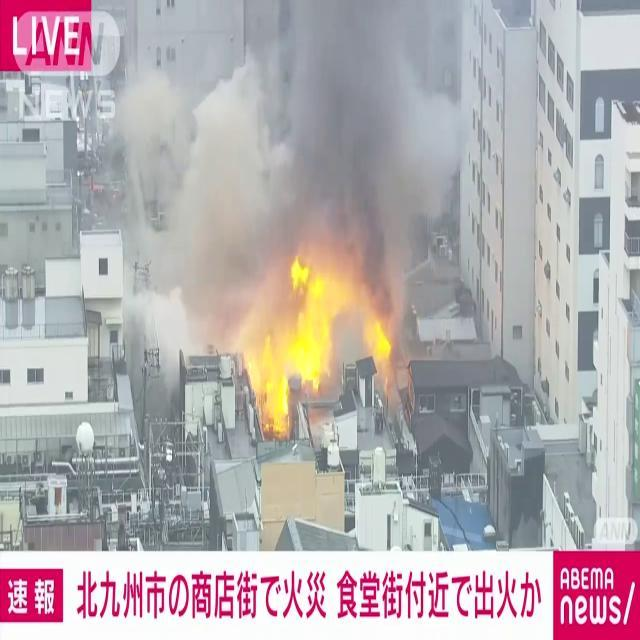Fire: (241, 242, 331, 438), (356, 296, 394, 378)
Smoke: (119, 1, 462, 307)
